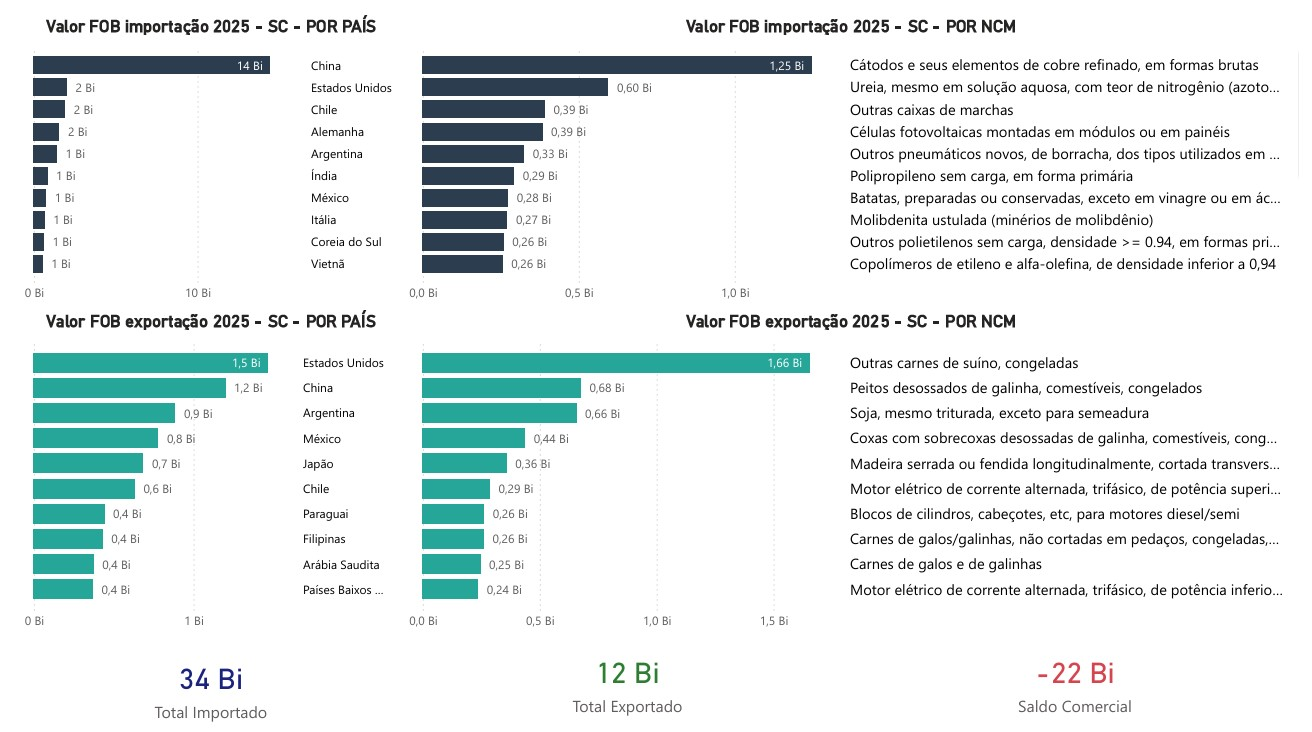

The dashboard page shown, as its layout file describes it:
{"tool":"powerbi","page":{"name":"Página 2","canvas":[1280,720],"ordinal":0},"visuals":[{"type":"clusteredBarChart","title":"Valor FOB importação 2025 - SC - POR PAÍS","fields":{"Category":["uc?export=download&id=1_cHdDejVuFFvpqWe3QpOMdLYr3SIgCxm.NO_PAIS"],"Y":["uc?export=download&id=1_cHdDejVuFFvpqWe3QpOMdLYr3SIgCxm.VL_FOB"]},"box":[0,0,384,295],"z":0},{"type":"clusteredBarChart","title":"Valor FOB exportação 2025 - SC - POR PAÍS","fields":{"Category":["uc?export=download&id=1_cHdDejVuFFvpqWe3QpOMdLYr3SIgCxm.NO_PAIS"],"Y":["uc?export=download&id=1_cHdDejVuFFvpqWe3QpOMdLYr3SIgCxm.VL_FOB"]},"box":[0,295,384,328],"z":1000},{"type":"clusteredBarChart","title":"Valor FOB importação 2025 - SC -  POR NCM","fields":{"Y":["uc?export=download&id=1_cHdDejVuFFvpqWe3QpOMdLYr3SIgCxm.VL_FOB"],"Category":["uc?export=download&id=1_cHdDejVuFFvpqWe3QpOMdLYr3SIgCxm.NO_NCM_POR"]},"box":[384,0,896,295],"z":2000},{"type":"clusteredBarChart","title":"Valor FOB exportação 2025 - SC - POR NCM","fields":{"Y":["uc?export=download&id=1_cHdDejVuFFvpqWe3QpOMdLYr3SIgCxm.VL_FOB"],"Category":["uc?export=download&id=1_cHdDejVuFFvpqWe3QpOMdLYr3SIgCxm.NO_NCM_POR"]},"box":[384,295,896,328],"z":3000},{"type":"card","fields":{"Values":["comexstat.Total Importado"]},"box":[0,623,384,97],"z":4000},{"type":"card","fields":{"Values":["comexstat.Total Exportado"]},"box":[384,612,449,108],"z":5000},{"type":"card","fields":{"Values":["comexstat.Saldo Comercial"]},"box":[832,612,448,107],"z":6000}]}

Visuals, with their boxes in screenshot pixels (x1, y1, x2, y2), scaled from the page's 1280x720 canvas onto the 1312x732 screenshot:
"Valor FOB importação 2025 - SC - POR PAÍS" clusteredBarChart: {"left": 0, "top": 0, "right": 394, "bottom": 300}
"Valor FOB exportação 2025 - SC - POR PAÍS" clusteredBarChart: {"left": 0, "top": 300, "right": 394, "bottom": 633}
"Valor FOB importação 2025 - SC -  POR NCM" clusteredBarChart: {"left": 394, "top": 0, "right": 1311, "bottom": 300}
"Valor FOB exportação 2025 - SC - POR NCM" clusteredBarChart: {"left": 394, "top": 300, "right": 1311, "bottom": 633}
card - comexstat.Total Importado: {"left": 0, "top": 633, "right": 394, "bottom": 731}
card - comexstat.Total Exportado: {"left": 394, "top": 622, "right": 854, "bottom": 731}
card - comexstat.Saldo Comercial: {"left": 853, "top": 622, "right": 1311, "bottom": 731}
